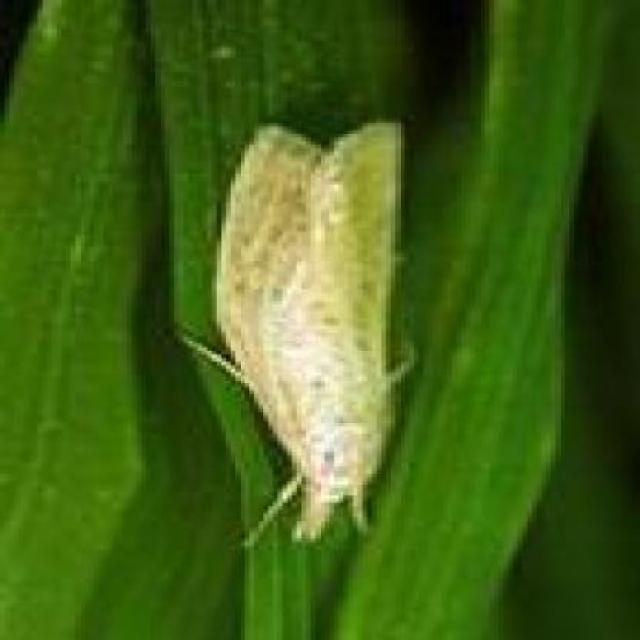stem-borer: (179, 120, 418, 548)
